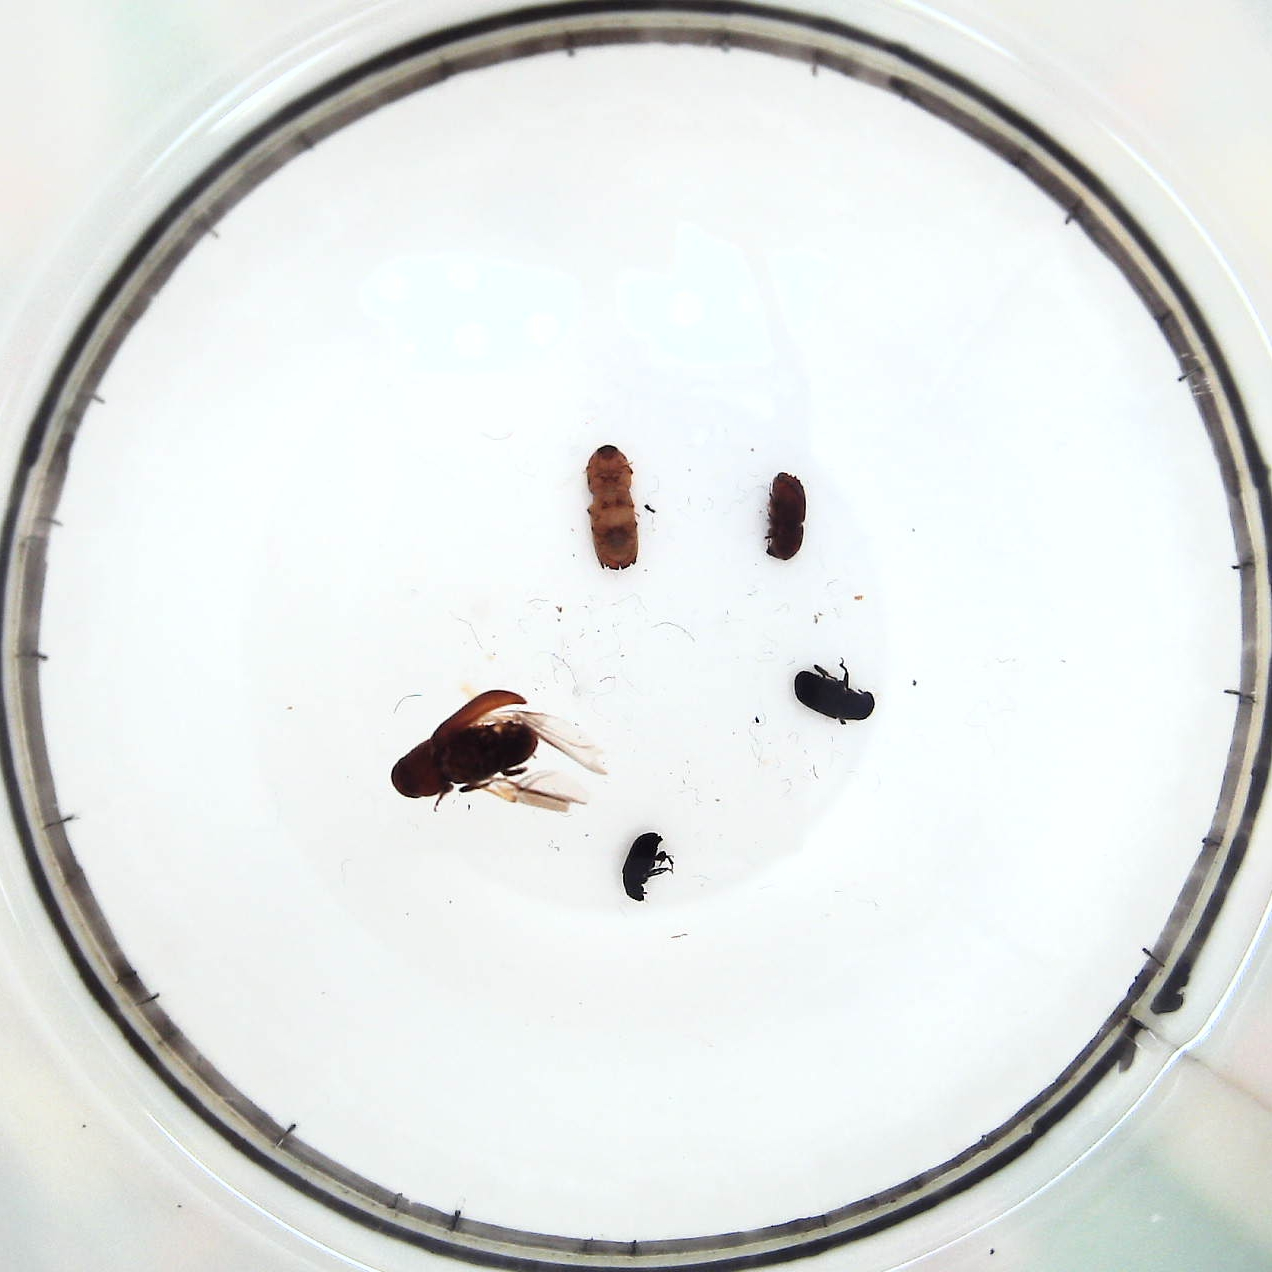Boerner: (584, 441, 641, 577)
Leconte: (393, 690, 580, 805)
Linnaeus: (764, 469, 810, 563)
armandi: (789, 662, 877, 727)
coleoptera: (623, 831, 672, 902)
